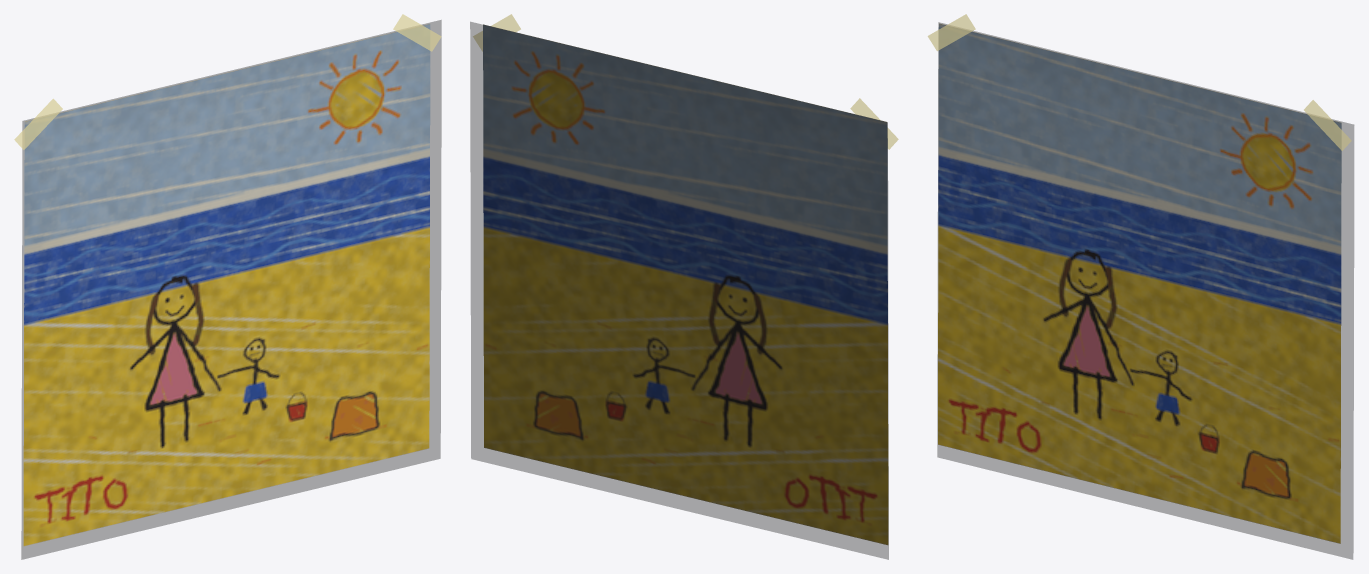
File: desenho_2.glb
3 views of the same model, side by side, from view 1: azimuth 30°, elevation 25°; view 2: azimuth 150°, elevation 25°; view 3: azimuth 330°, elevation 25° (orthographic).
Visible parts, largest first — view 1: _MeshInstance3D_1261_2, _MeshInstance3D_1260_3, _MeshInstance3D_1263_0, _MeshInstance3D_1262_1; view 2: _MeshInstance3D_1260_3, _MeshInstance3D_1261_2; view 3: _MeshInstance3D_1261_2, _MeshInstance3D_1260_3, _MeshInstance3D_1263_0, _MeshInstance3D_1262_1.
Part boxes in pixels (x1=…): _MeshInstance3D_1261_2: x1=23, y1=24, x2=430, y2=546; _MeshInstance3D_1260_3: x1=21, y1=20, x2=441, y2=559; _MeshInstance3D_1263_0: x1=393, y1=14, x2=441, y2=51; _MeshInstance3D_1262_1: x1=14, y1=98, x2=62, y2=149; _MeshInstance3D_1260_3: x1=470, y1=22, x2=888, y2=559; _MeshInstance3D_1261_2: x1=483, y1=24, x2=888, y2=544; _MeshInstance3D_1261_2: x1=938, y1=23, x2=1341, y2=543; _MeshInstance3D_1260_3: x1=937, y1=22, x2=1354, y2=559; _MeshInstance3D_1263_0: x1=1304, y1=100, x2=1351, y2=150; _MeshInstance3D_1262_1: x1=927, y1=14, x2=975, y2=51.
Bounding box in the file's own units: 0.9512 × 0.9668 × 0.005.
Materials: 3 (1 with a texture image).
